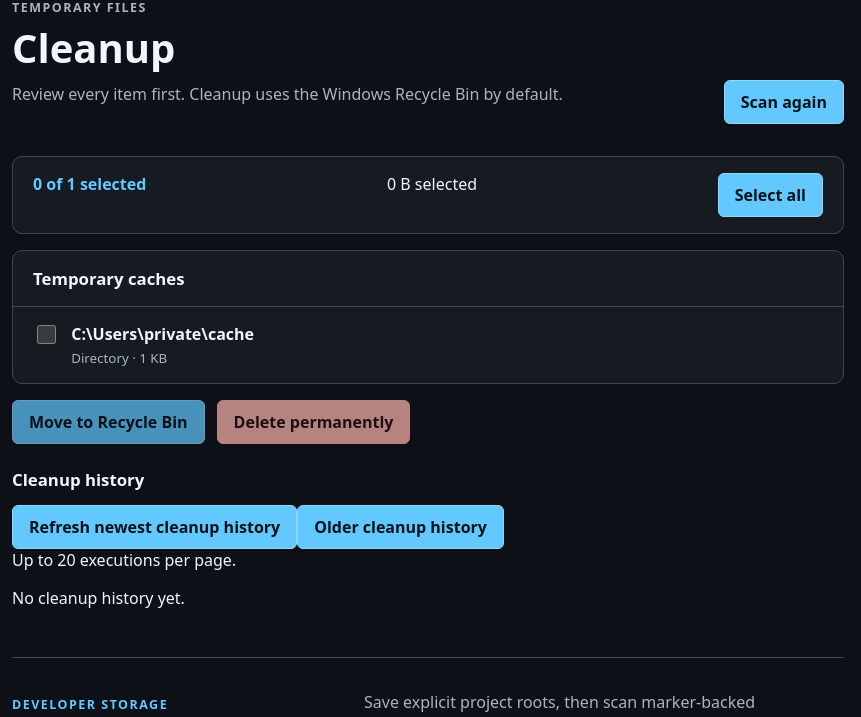
CleanupPreviewPage › browses older history and Undoes only its immutable execution ID without rescanning
Expected: the checkbox is shown, left=37, top=325, right=56, bottom=344
Click the button "Older cleanup history": (401, 527) left=297, top=505, right=504, bottom=549
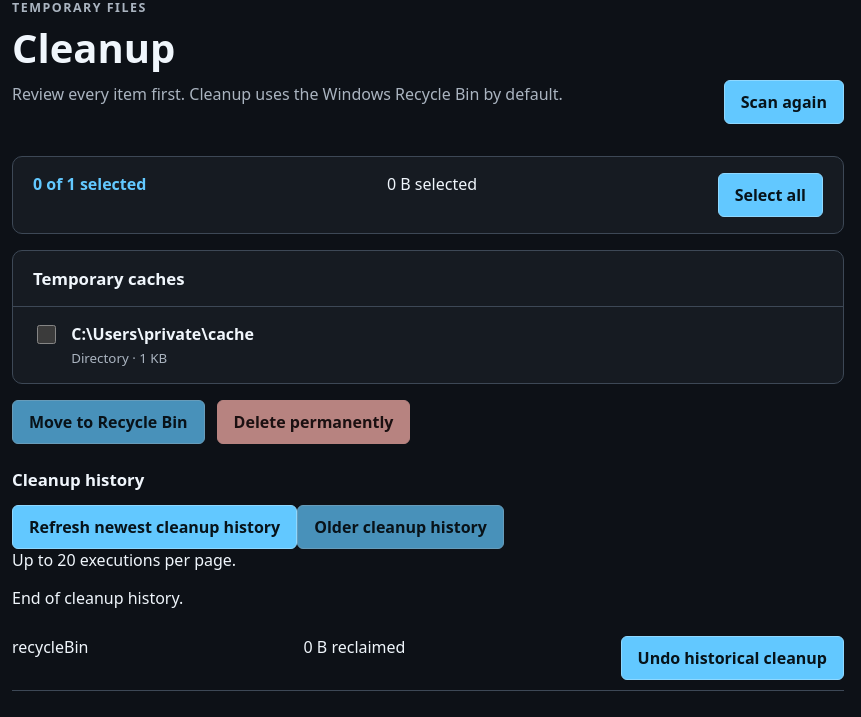
Click the button "Undo historical cleanup": (732, 658) left=620, top=636, right=844, bottom=680
(page scrolled)
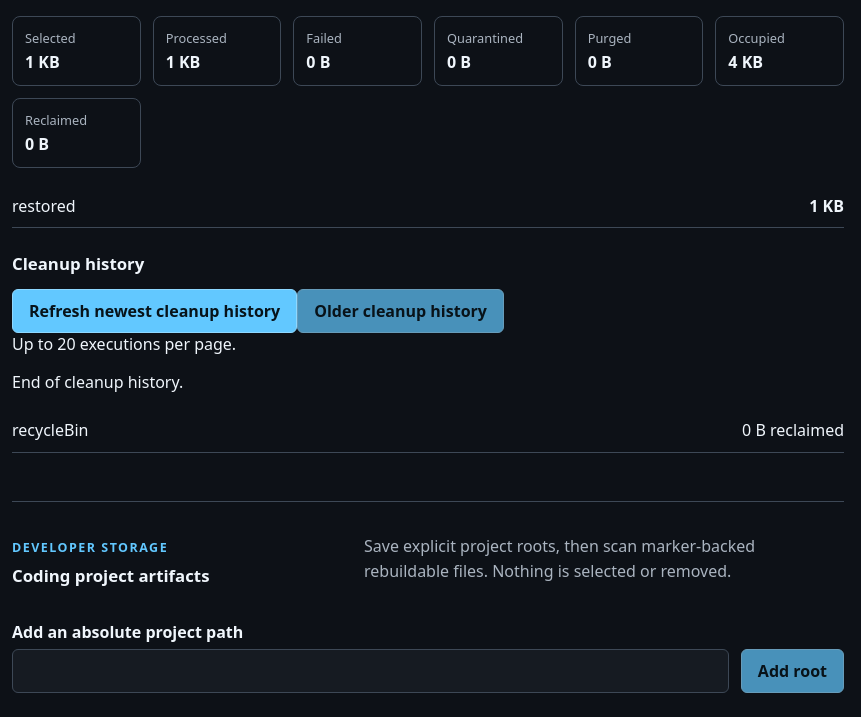
Result: the text "End of cleanup history." is shown at left=12, top=371, right=183, bottom=393
Result: the button "Undo historical cleanup" is gone
